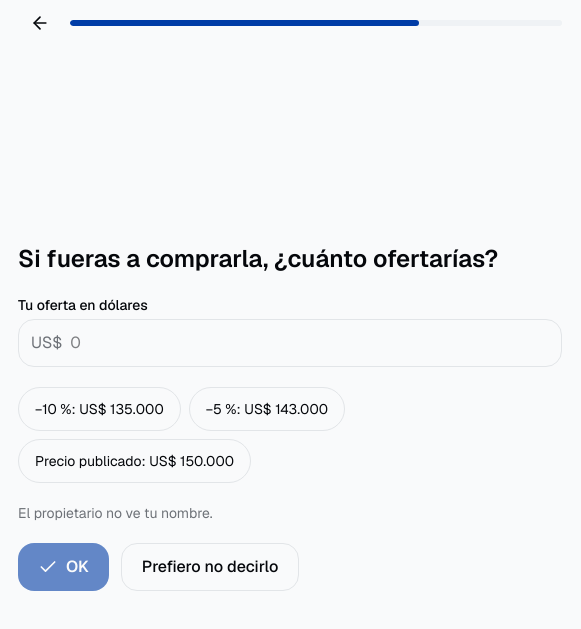
Scenario: EncuestaVisita (criterios 20, 21, 22) › la oferta se ve agrupada; "Prefiero no decirlo" guarda y avanza
Type "1290000" into the field labelled "Tu oferta en dólares" at (310, 342), box [70,320,549,364]
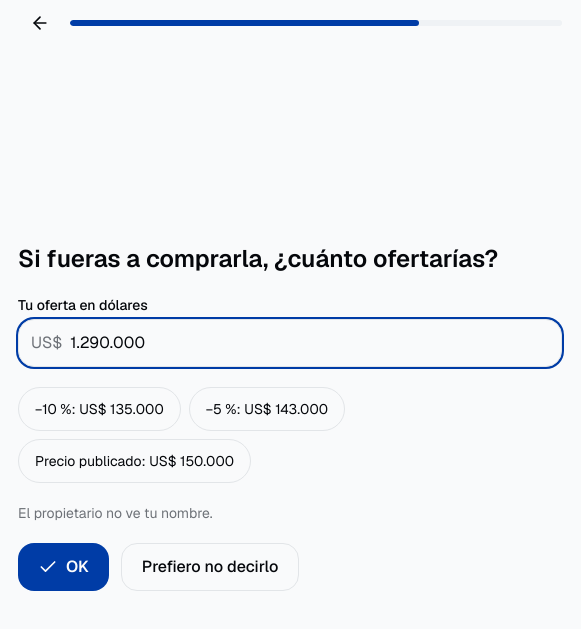
Check: the text "El propietario no ve tu nombre." is shown, box [18,504,213,522]
Check: the field labelled "Tu oferta en dólares" holds "1.290.000", box [70,320,549,364]
Click the button "Prefiero no decirlo" at (210, 566), box [121,542,299,590]
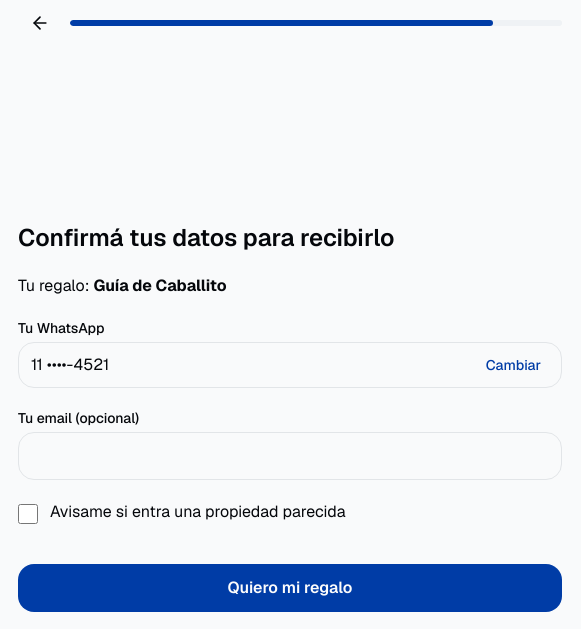
Check: the heading "Confirmá tus datos para recibirlo" is shown, box [18,222,394,252]
